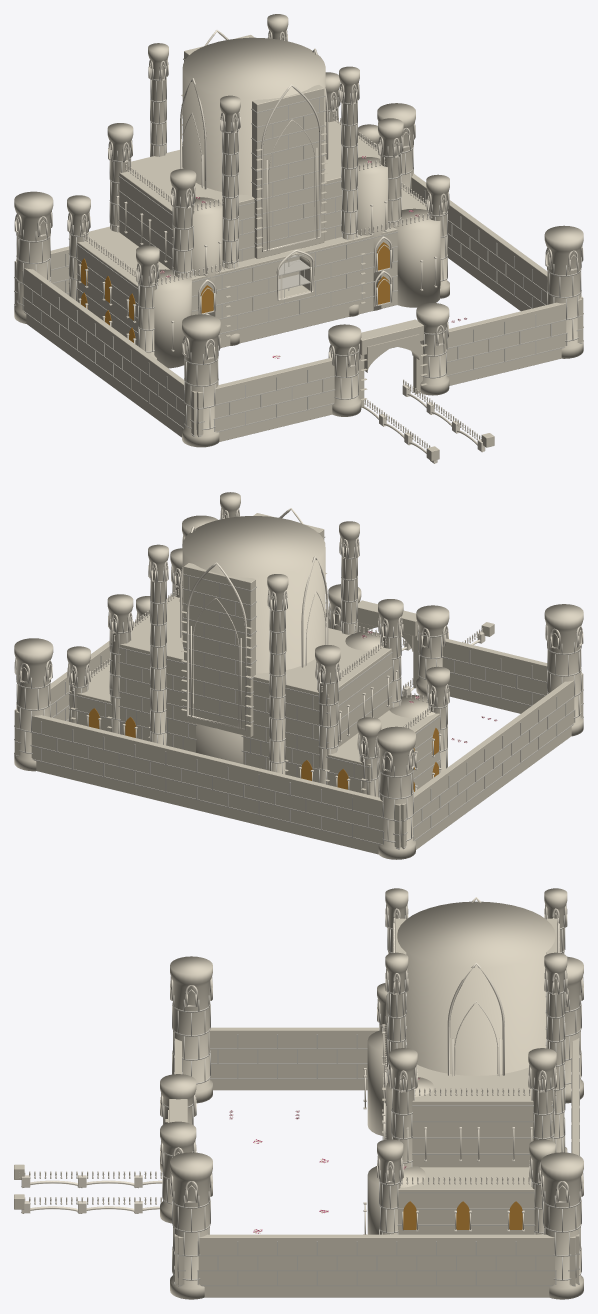
Rendered from Catalog-34.glb.
The picture shows the model from 3 angles, top to bottom: view 1: azimuth 30°, elevation 25°; view 2: azimuth 150°, elevation 25°; view 3: azimuth 270°, elevation 25°; orthographic projection. The views are drawn at different scales.
Visible parts, largest first — view 1: Ivory Limestone, Royal Broad Masonry Mortar, Pale Carved Stone (×2), Amber Window Glass; view 2: Ivory Limestone, Royal Broad Masonry Mortar, Pale Carved Stone (×2), Amber Window Glass; view 3: Ivory Limestone, Royal Broad Masonry Mortar, Pale Carved Stone (×2), Amber Window Glass.
Boxes of the visible parts, <box> form: Ivory Limestone: <box>14,14,583,460</box>; Royal Broad Masonry Mortar: <box>14,37,583,436</box>; Pale Carved Stone (×2): <box>14,30,583,463</box>; Amber Window Glass: <box>81,242,389,342</box>; Ivory Limestone: <box>14,492,583,859</box>; Royal Broad Masonry Mortar: <box>14,514,583,849</box>; Pale Carved Stone (×2): <box>14,508,583,790</box>; Amber Window Glass: <box>89,708,438,791</box>; Ivory Limestone: <box>14,888,583,1299</box>; Royal Broad Masonry Mortar: <box>162,915,581,1286</box>; Pale Carved Stone (×2): <box>19,897,583,1234</box>; Amber Window Glass: <box>403,1201,522,1229</box>.
Bounding box in the file's own units: 76.54 × 46.35 × 86.06.
